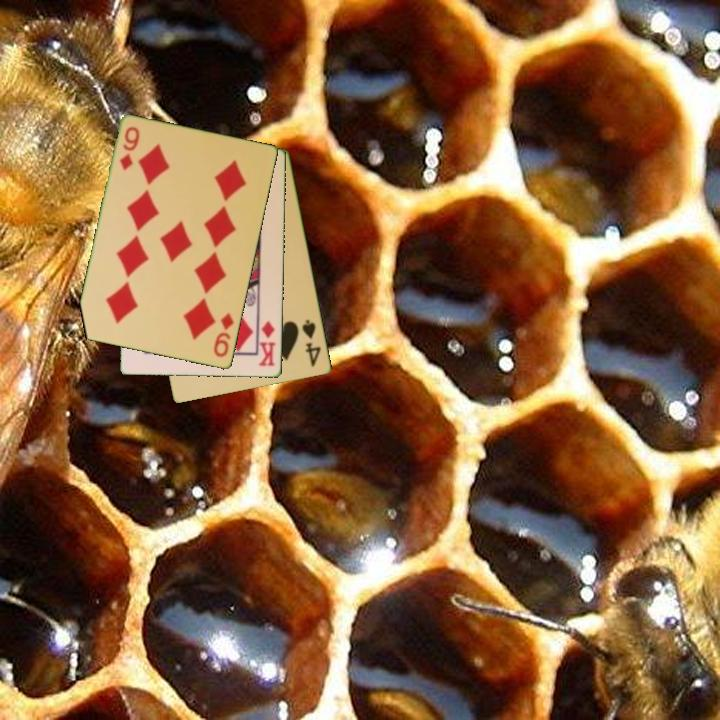4s: (299, 316, 324, 370)
9d: (210, 309, 237, 360), (116, 123, 143, 174)
Kd: (255, 318, 278, 369)
